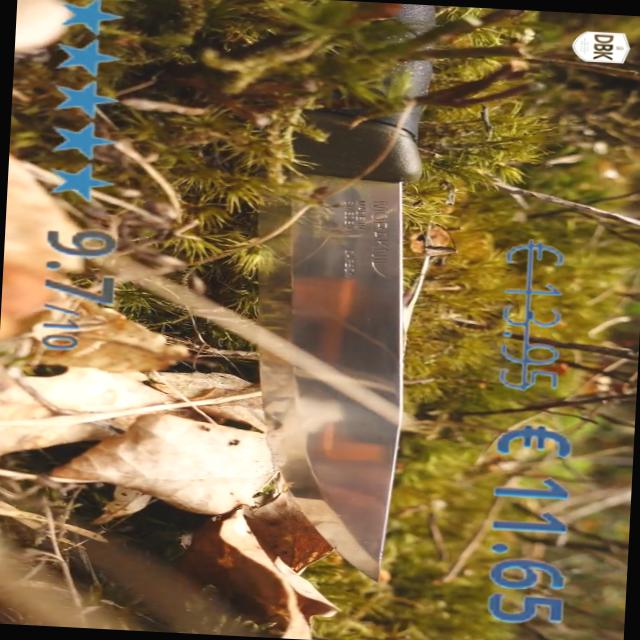knife: (257, 110, 444, 594)
